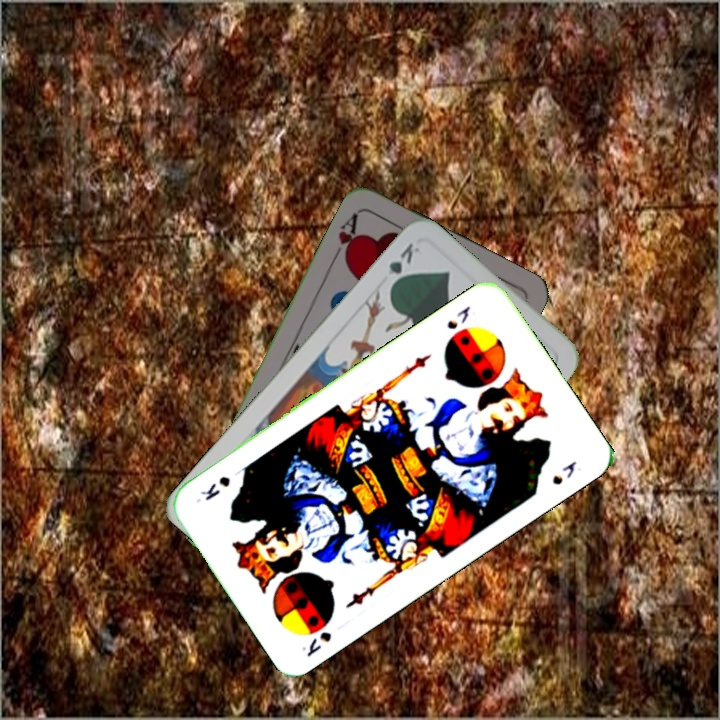GK: (382, 238, 423, 292)
HA: (329, 208, 363, 266)
SK: (298, 627, 335, 660), (442, 302, 473, 333)
